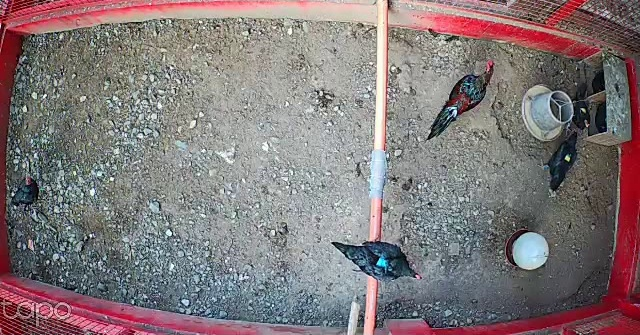Chicken: (333, 233, 433, 285), (535, 128, 582, 195), (5, 168, 53, 212), (563, 84, 591, 137)
Rooster: (423, 56, 499, 147)
Saddle_Color_Blue: (378, 254, 391, 271)
Saddle_Color_Yellow: (580, 109, 586, 113)
Saddle_Color_YellowGreen: (566, 153, 573, 162)
